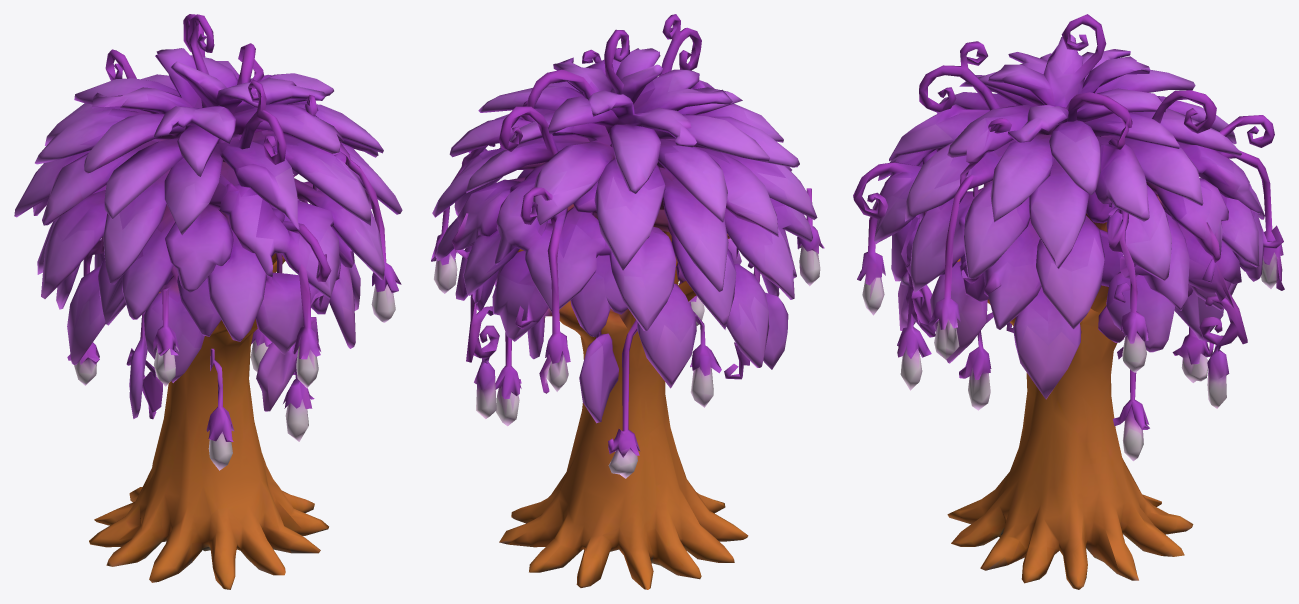
The model's file is tree_wisteria.glb.
3 renders of one model, left to right at view 1: azimuth 30°, elevation 25°; view 2: azimuth 150°, elevation 25°; view 3: azimuth 270°, elevation 25°, orthographic.
Parts seen in each view (by area): view 1: tripo_node_04262872-fbe2-4e66-b93e-0371d9677054; view 2: tripo_node_04262872-fbe2-4e66-b93e-0371d9677054; view 3: tripo_node_04262872-fbe2-4e66-b93e-0371d9677054.
Part boxes in pixels (bbox=[...]): tripo_node_04262872-fbe2-4e66-b93e-0371d9677054: bbox=[14, 14, 402, 589]; tripo_node_04262872-fbe2-4e66-b93e-0371d9677054: bbox=[431, 14, 824, 589]; tripo_node_04262872-fbe2-4e66-b93e-0371d9677054: bbox=[853, 14, 1284, 589].
Size of the model in its own units: 3.27 by 4.81 by 3.61.
Materials: 1 (1 with a texture image).
